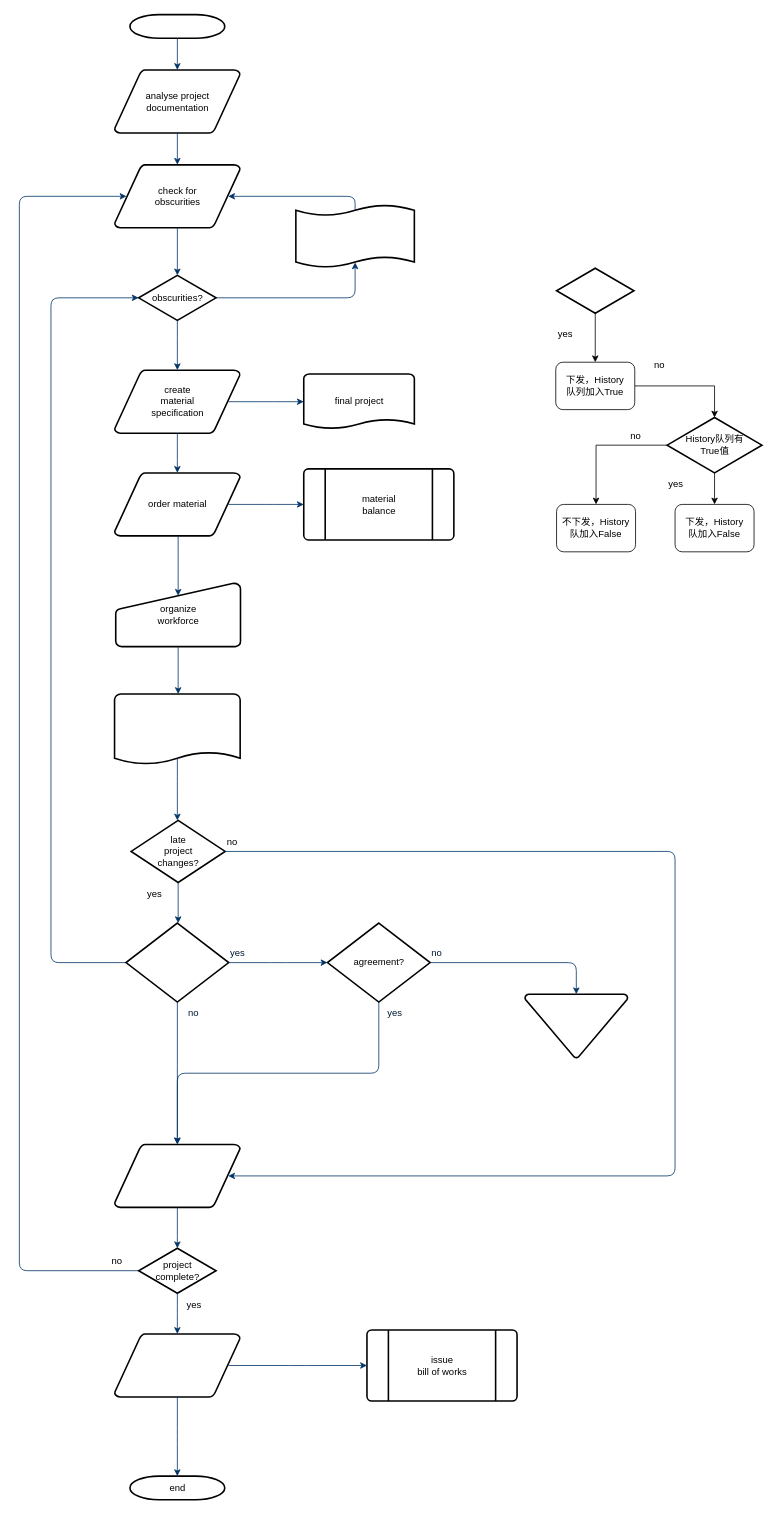
The diagram is 777 pixels wide and 1514 high, and some of its shapes have lost their labels. The centre of each missing label's shape, as x and y in pixels:
"create final report" goes at pixel 177 1365.
"create Gantt diagram" goes at pixel 177 729.
"create status report" goes at pixel 177 1175.
"investor disapproves investment?" goes at pixel 177 962.
"iron out obscurities with investor" goes at pixel 355 236.
"start" goes at pixel 177 26.
"terminate contract" goes at pixel 576 1025.
"声音是Top N" goes at pixel 594 290.
